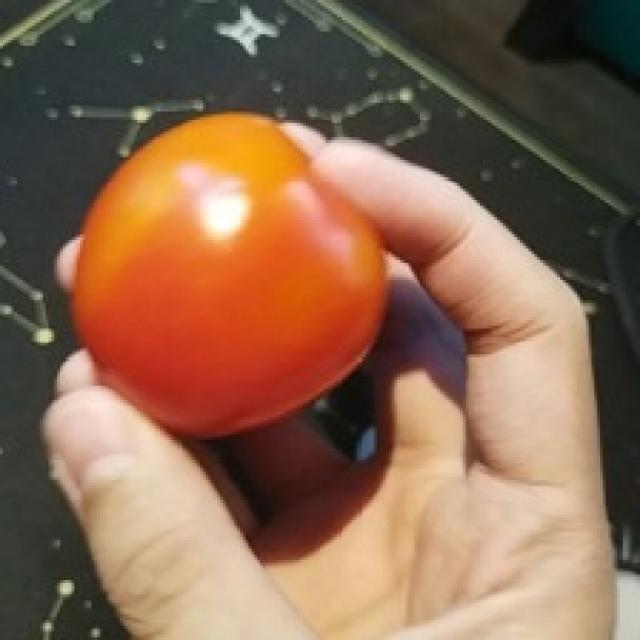Fresh Tomato: (50, 101, 406, 456)
